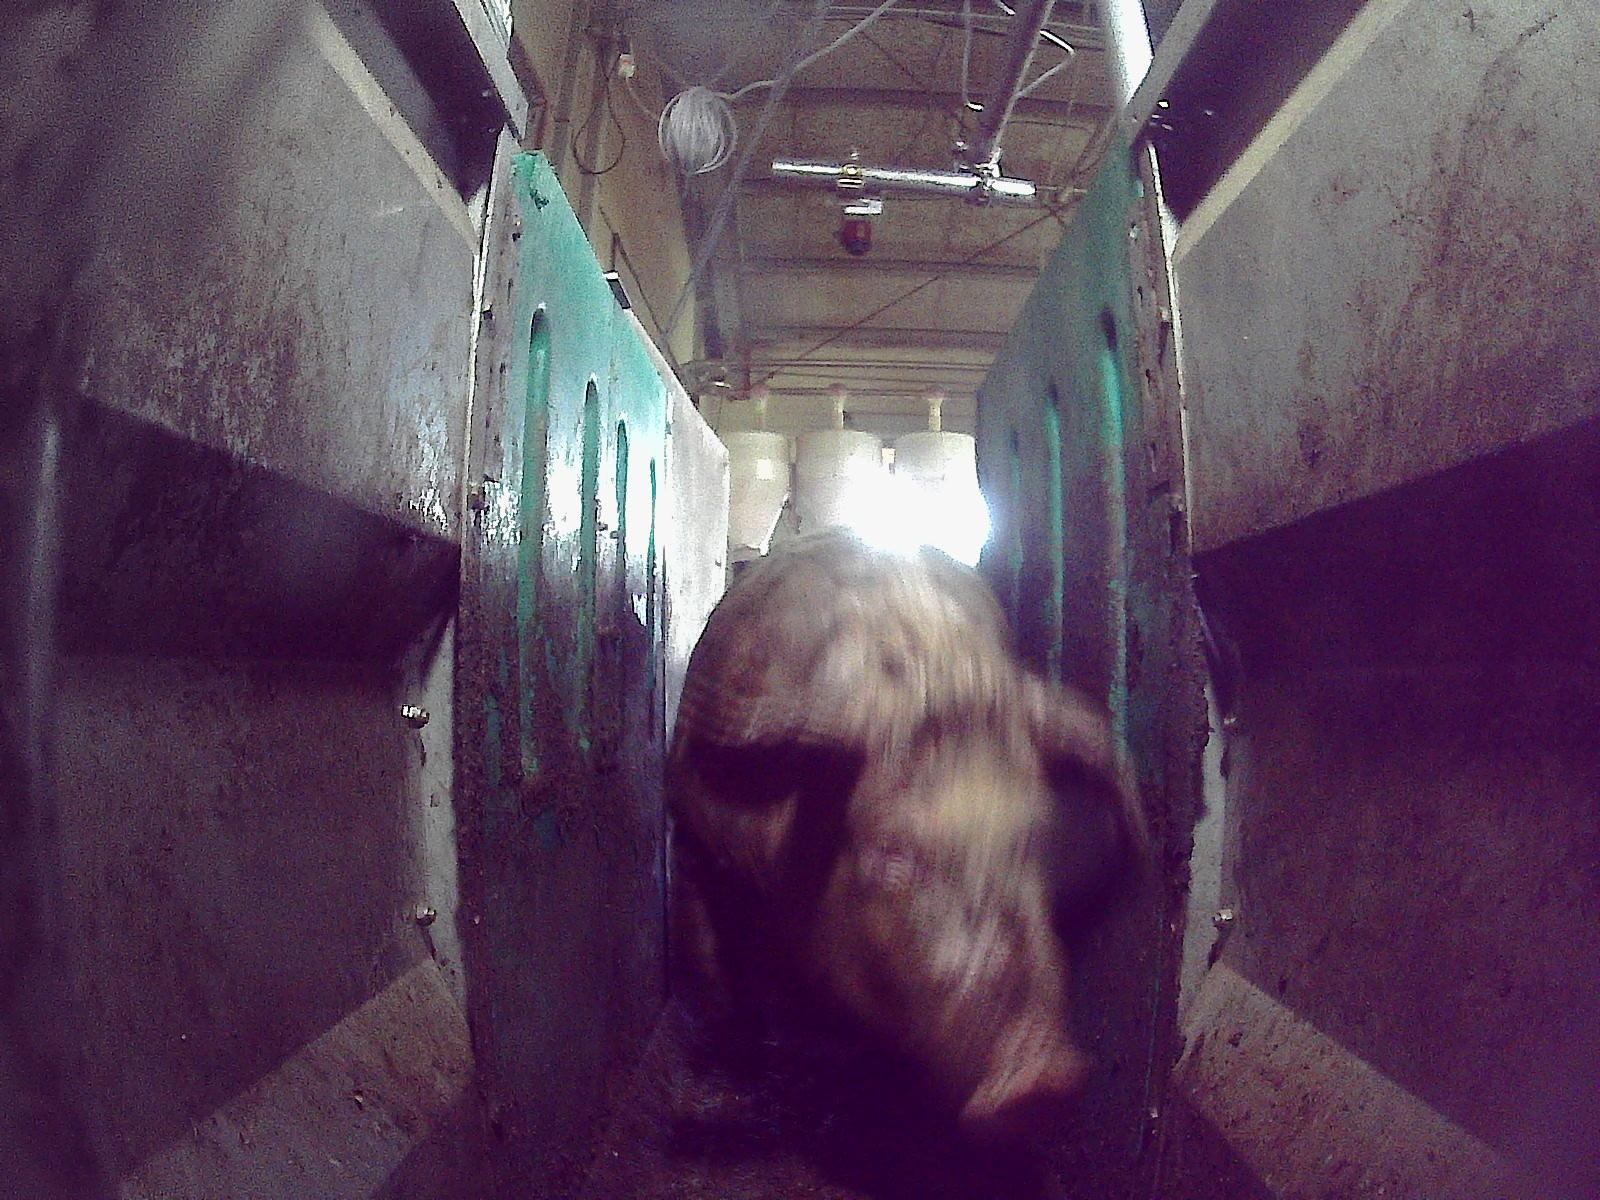Face: (796, 671, 1097, 1137)
